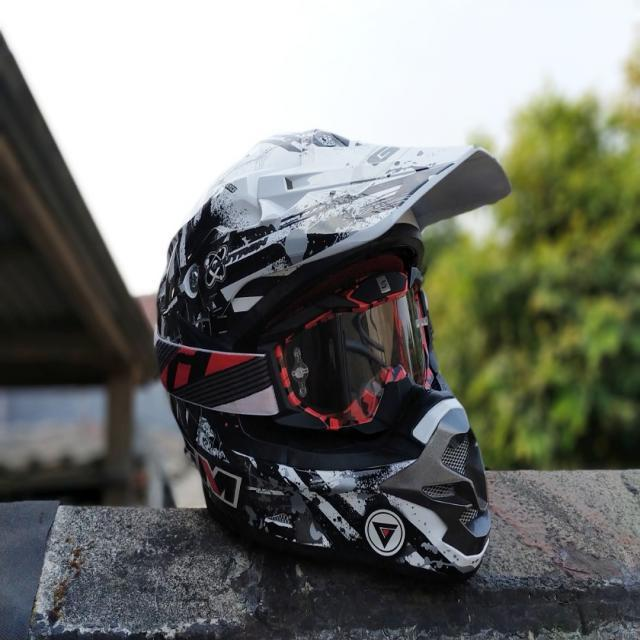Helm: (146, 119, 522, 580)
